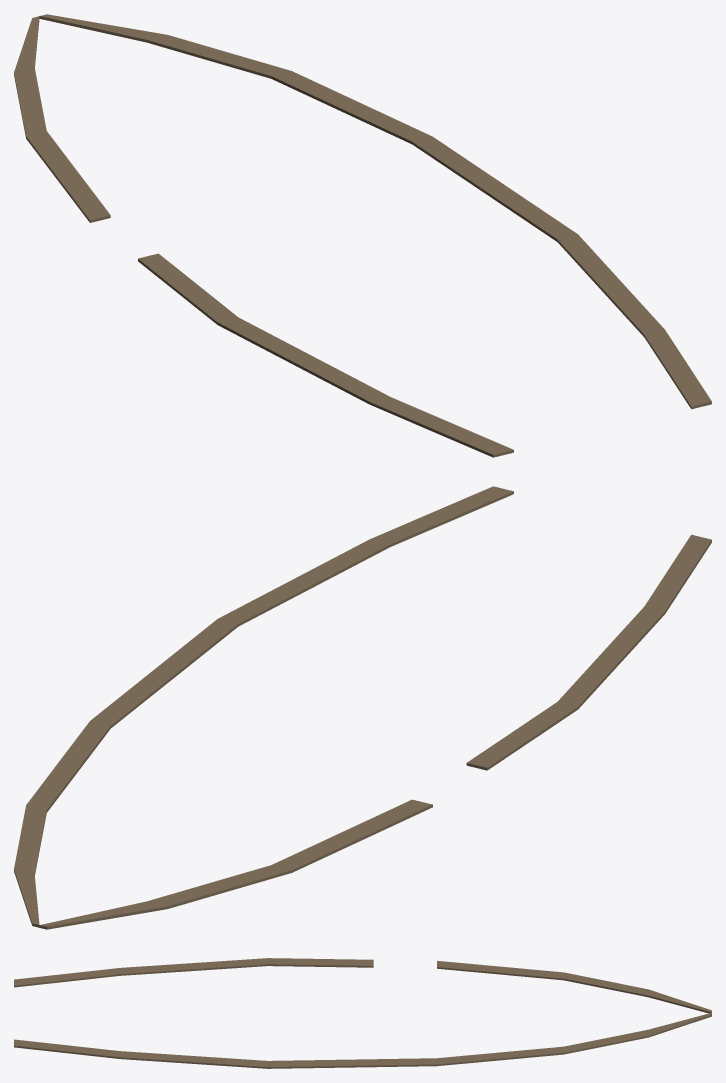
File: S2_MainDeck_Trim.fbx
3 renders of one model, top to bottom at view 1: azimuth 30°, elevation 25°; view 2: azimuth 150°, elevation 25°; view 3: azimuth 270°, elevation 25°, orthographic. The views are drawn at different scales.
Parts seen in each view (by area): view 1: S2_MainDeck_Trim; view 2: S2_MainDeck_Trim; view 3: S2_MainDeck_Trim.
Boxes of the visible parts, x1,y1,x2,y2 form: S2_MainDeck_Trim: [14, 14, 711, 457]; S2_MainDeck_Trim: [14, 486, 711, 929]; S2_MainDeck_Trim: [14, 958, 711, 1068].
Bounding box in the file's own units: 36.6 × 0.27 × 99.
